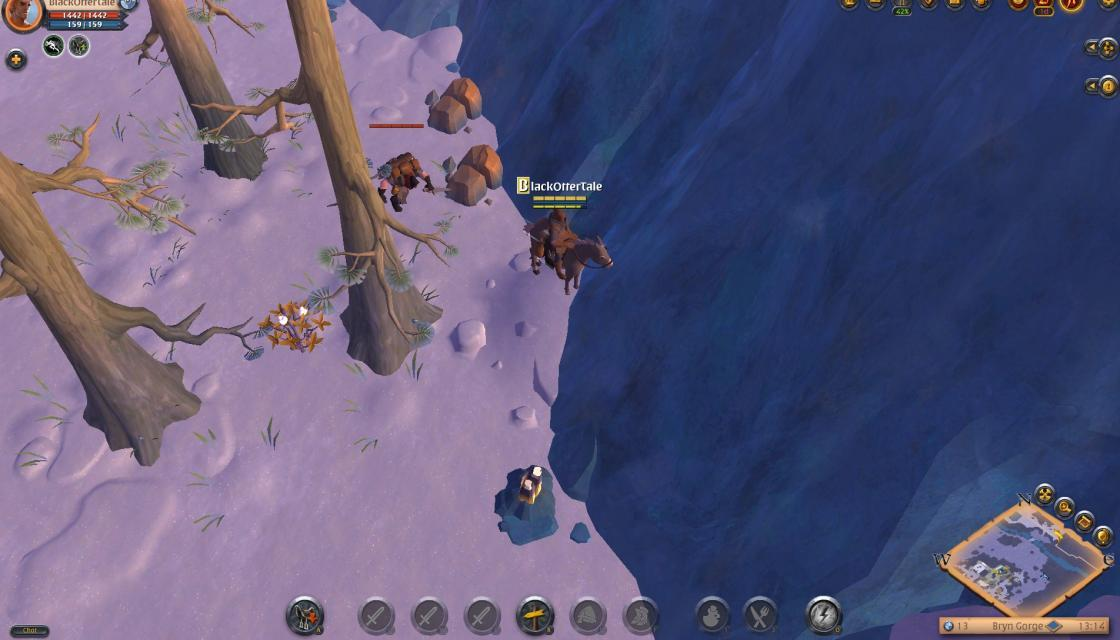copperore: (496, 462, 556, 537)
limestone: (444, 143, 504, 204), (425, 76, 478, 136)
